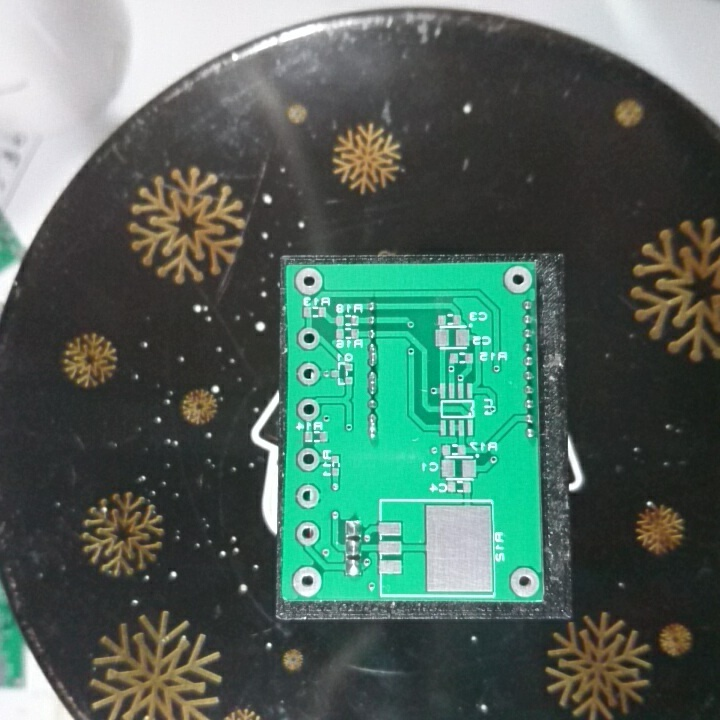F: (508, 564, 542, 600), (291, 565, 324, 599), (502, 262, 534, 296), (293, 265, 325, 297), (294, 446, 322, 475), (294, 481, 322, 510), (294, 518, 322, 547), (295, 359, 322, 389), (295, 396, 321, 422), (296, 325, 321, 351)
P: (364, 411, 381, 441), (364, 369, 382, 396), (365, 340, 382, 368)
